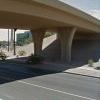Bridge: (3, 0, 93, 55)
